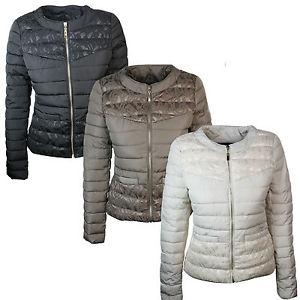C_jacket: (80, 62, 224, 246), (2, 3, 139, 186), (158, 122, 297, 299)
